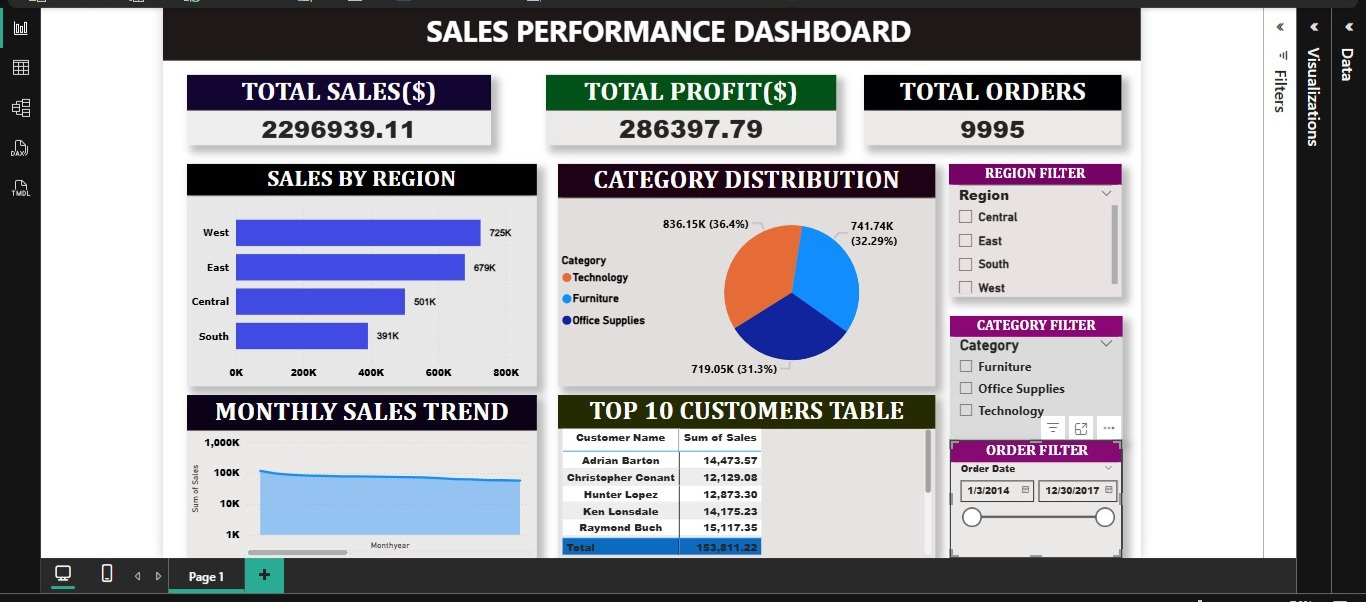

The page's visual inventory and layout, read from the dashboard file:
{"tool":"powerbi","page":{"name":"Page 1","canvas":[1280,720],"ordinal":0},"visuals":[{"type":"textbox","box":[0,0,1280,68.8],"z":0},{"type":"card","title":"TOTAL SALES($)","fields":{"Values":["Summary Metrics (2).Column1"]},"box":[31.7,88.1,397.8,92.2],"z":1000},{"type":"card","title":"TOTAL PROFIT($)","fields":{"Values":["Summary Metrics (2).Column2"]},"box":[501,88.1,379.9,92.2],"z":2000},{"type":"card","title":"TOTAL ORDERS","fields":{"Values":["Summary Metrics (2).Column3"]},"box":[918,88.1,337.2,92.2],"z":3000},{"type":"clusteredBarChart","title":"SALES BY REGION","fields":{"Category":["Cleaned Data (2).Region"],"Y":["Cleaned Data (2). Sales "]},"box":[31.8,204.5,457.6,290.9],"z":4000},{"type":"pieChart","title":"CATEGORY DISTRIBUTION","fields":{"Category":["Cleaned Data (2).Category"],"Y":["Cleaned Data (2). Sales "]},"box":[516.7,204.5,493.9,290.9],"z":5000},{"type":"lineChart","title":"MONTHLY SALES TREND","fields":{"Y":["Cleaned Data (2). Sales "],"Category":["Cleaned Data (2).Monthyear"]},"box":[32,506,458,214],"z":6000},{"type":"tableEx","title":"TOP 10 CUSTOMERS TABLE","fields":{"Values":["Cleaned Data (2).Customer Name","Cleaned Data (2). Sales "]},"box":[516.7,506.1,493.9,213.6],"z":7000},{"type":"slicer","title":"REGION FILTER","fields":{"Values":["Cleaned Data (2).Region"]},"box":[1028.8,204.5,225.8,174.2],"z":8000},{"type":"slicer","title":"CATEGORY FILTER","fields":{"Values":["Cleaned Data (2).Category"]},"box":[1030.3,403,225.8,162.1],"z":9000},{"type":"slicer","title":"ORDER FILTER","fields":{"Values":["Cleaned Data (2).Order Date"]},"box":[1030.3,565.2,225.8,154.5],"z":10000}]}

Visuals, with their boxes on the page's 1280x720 design canvas (x1, y1, x2, y2). These are canvas units, not pixel positions in the 1366x602 screenshot, which may show the page scaled, cropped or inside an application window:
textbox: bbox(0, 0, 1280, 69)
"TOTAL SALES($)" card: bbox(32, 88, 430, 180)
"TOTAL PROFIT($)" card: bbox(501, 88, 881, 180)
"TOTAL ORDERS" card: bbox(918, 88, 1255, 180)
"SALES BY REGION" clusteredBarChart: bbox(32, 204, 489, 495)
"CATEGORY DISTRIBUTION" pieChart: bbox(517, 204, 1011, 495)
"MONTHLY SALES TREND" lineChart: bbox(32, 506, 490, 720)
"TOP 10 CUSTOMERS TABLE" tableEx: bbox(517, 506, 1011, 720)
"REGION FILTER" slicer: bbox(1029, 204, 1255, 379)
"CATEGORY FILTER" slicer: bbox(1030, 403, 1256, 565)
"ORDER FILTER" slicer: bbox(1030, 565, 1256, 720)
